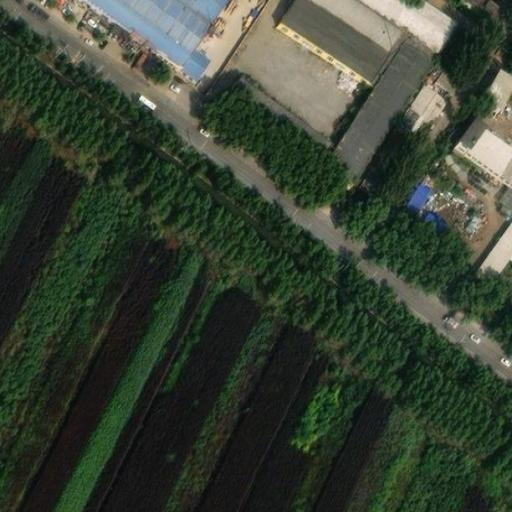building: (323, 25, 444, 180), (93, 0, 215, 74), (228, 72, 329, 152), (457, 111, 512, 178), (398, 74, 451, 138), (402, 168, 451, 231), (475, 211, 512, 274), (481, 60, 512, 105), (497, 176, 512, 212)
